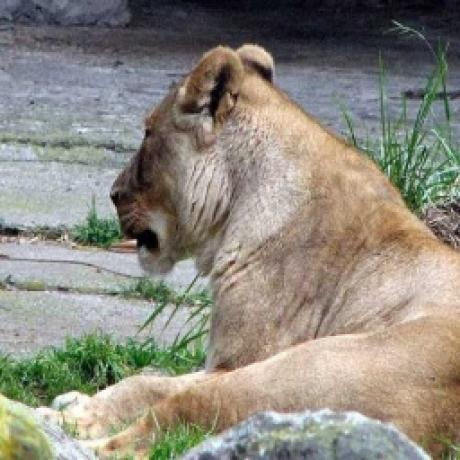Lion: (43, 41, 460, 460)
